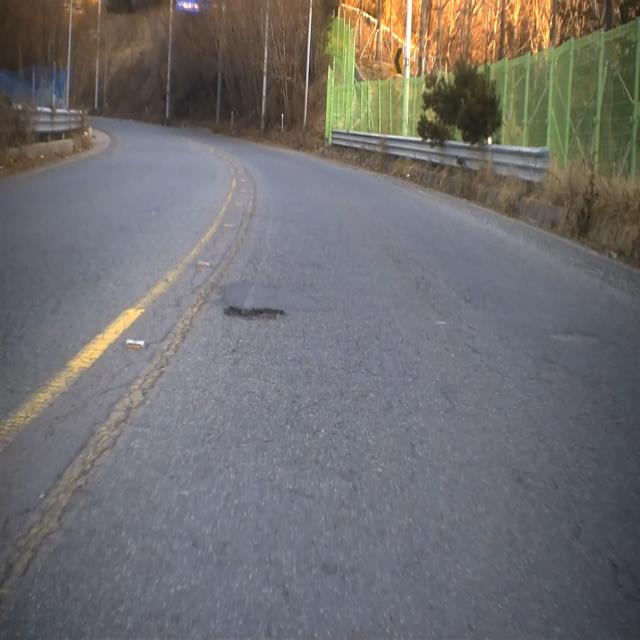Pothole: (217, 294, 294, 342)
